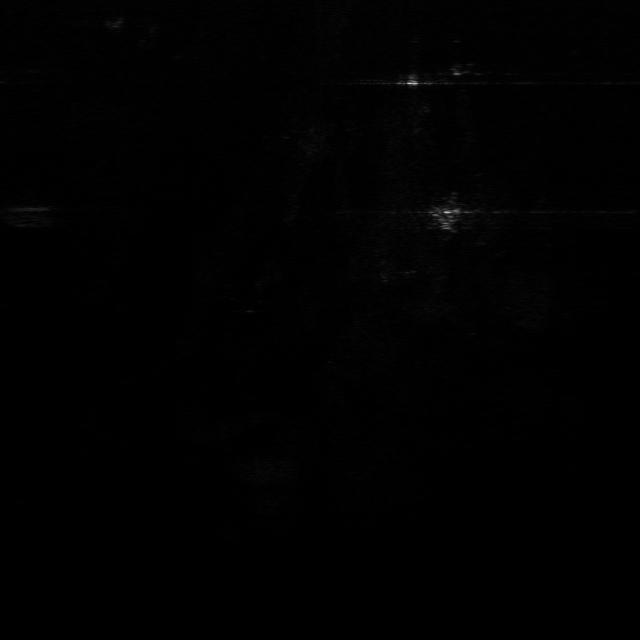rov: (431, 205, 468, 232)
